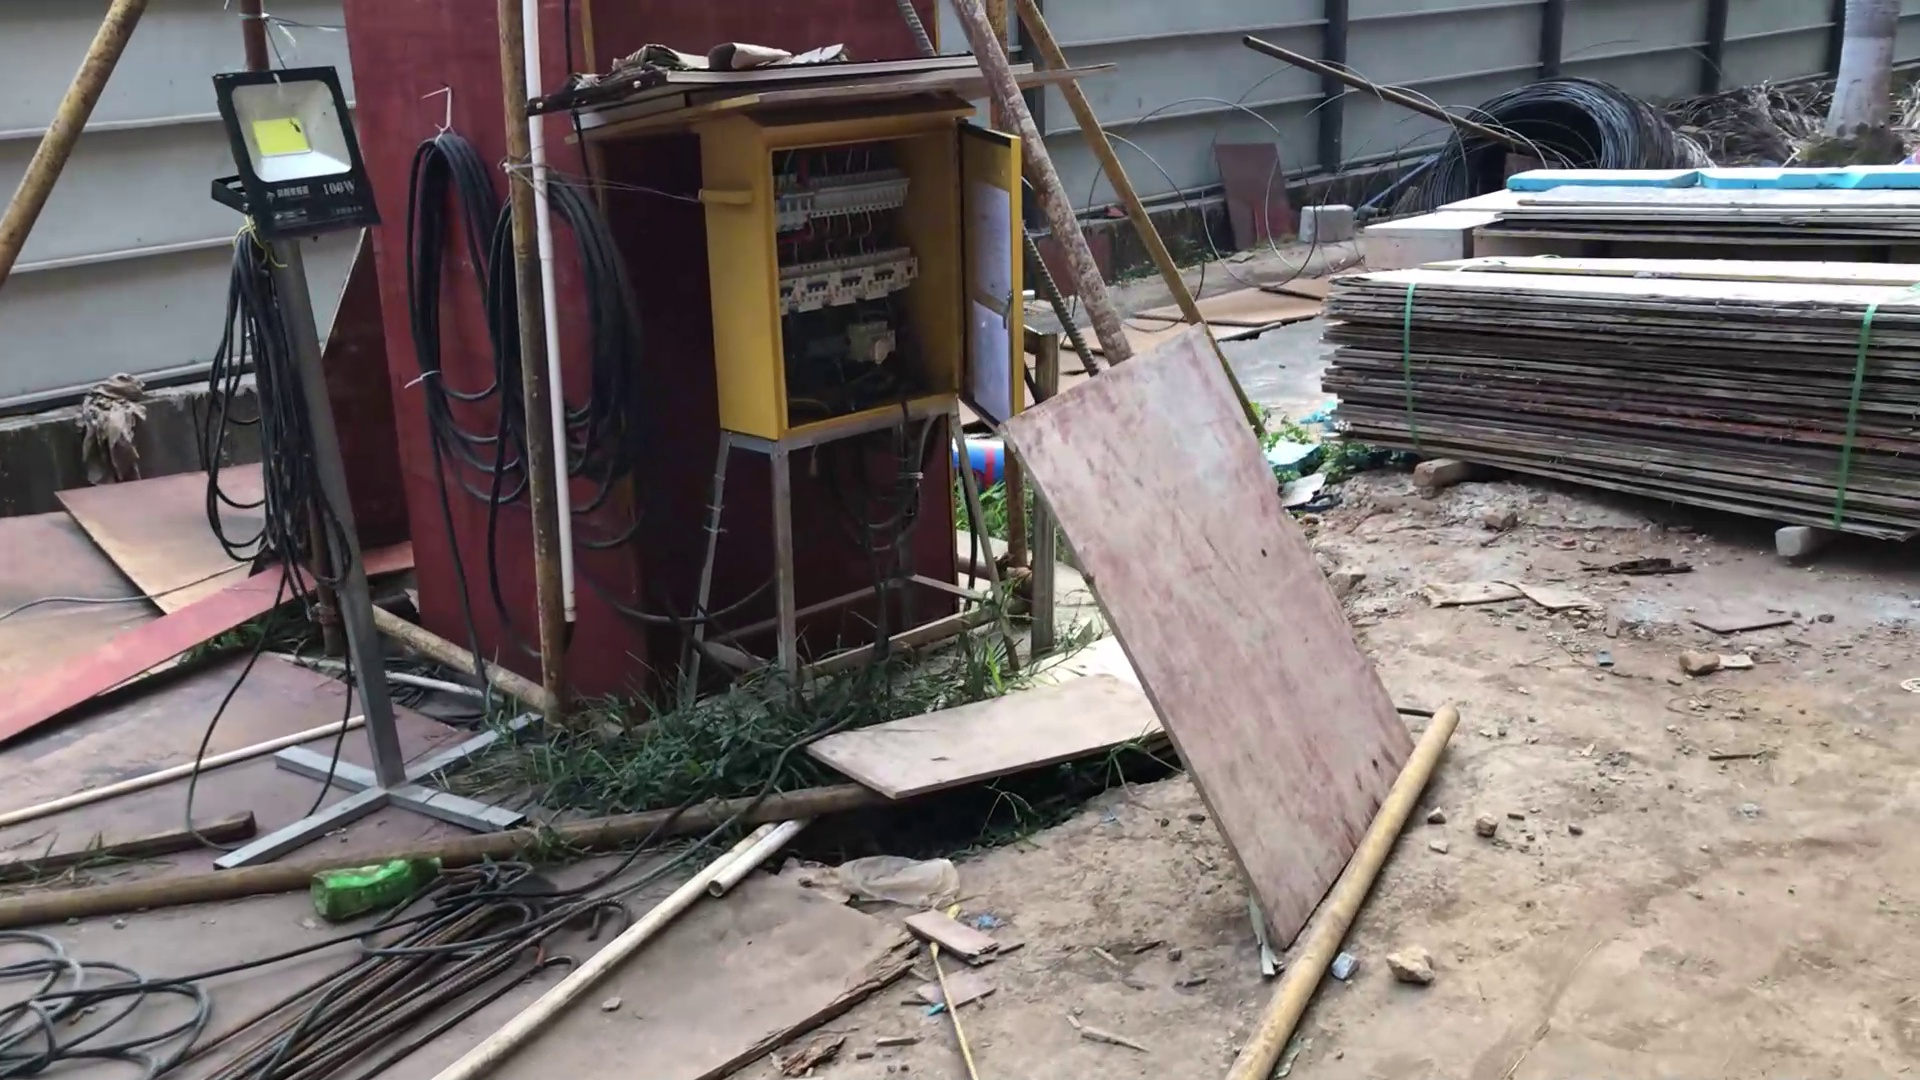board: (1307, 236, 1920, 572)
ebox: (646, 69, 1043, 694)
